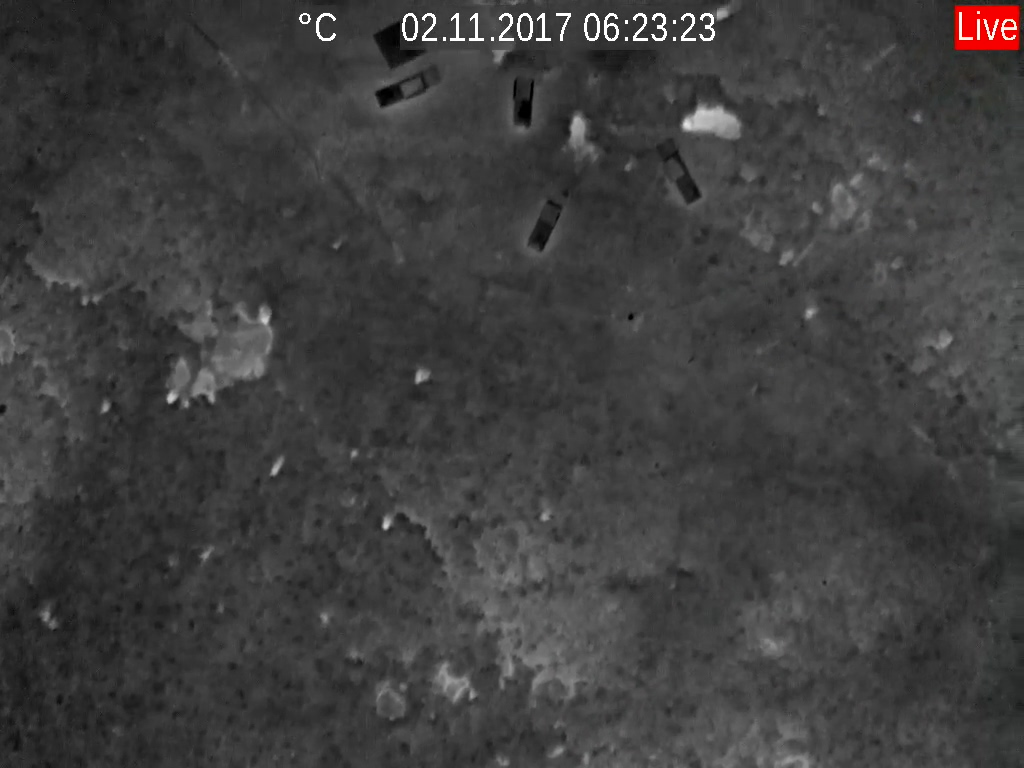warren: (675, 85, 742, 148), (565, 105, 597, 158), (266, 449, 290, 485), (372, 504, 399, 534), (409, 358, 433, 390)
